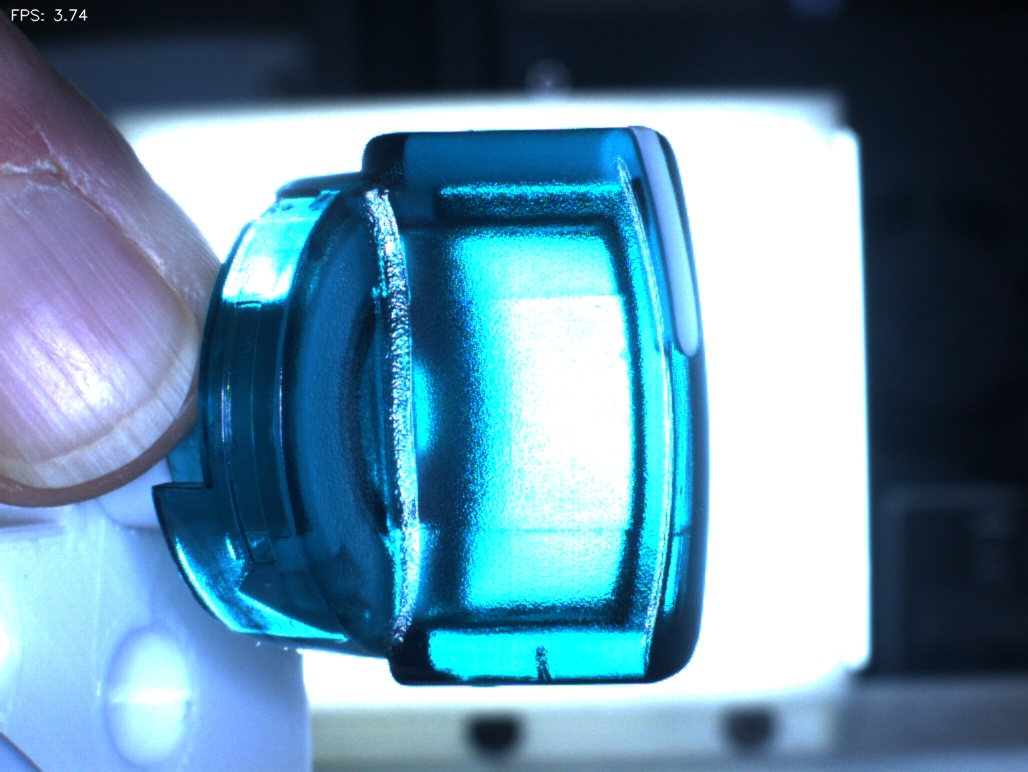Bulle: (498, 624, 593, 719)
